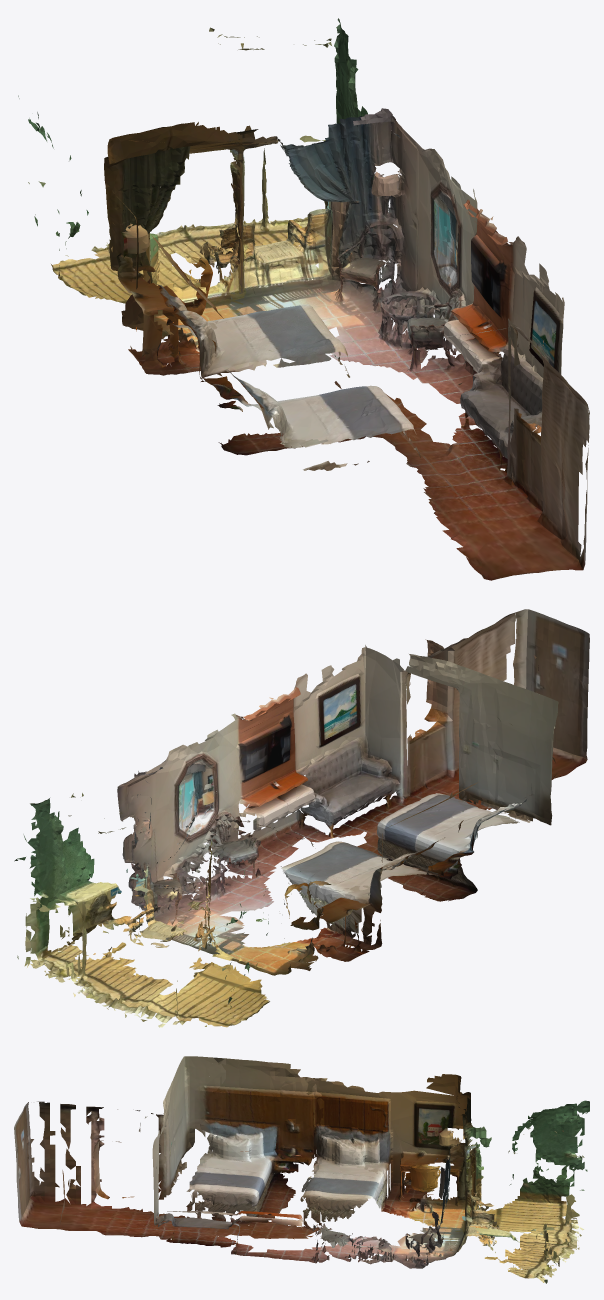
Rendered from site-visit.glb.
3 views of the same model, one above another, from view 1: azimuth 30°, elevation 25°; view 2: azimuth 150°, elevation 25°; view 3: azimuth 270°, elevation 25° (orthographic). The views are drawn at different scales.
Visible parts, largest first — view 1: node_2, node_1, node_0; view 2: node_2, node_0, node_1; view 3: node_2, node_1, node_0.
Part boxes in pixels (x1,y1,x2,y2): node_2: (187, 18, 564, 495); node_1: (18, 27, 272, 375); node_0: (253, 300, 589, 580); node_2: (14, 645, 521, 982); node_0: (412, 609, 589, 825); node_1: (65, 781, 455, 1027); node_2: (130, 1057, 559, 1283); node_1: (305, 1074, 589, 1266); node_0: (14, 1056, 225, 1236).
Bounding box in the file's own units: 5.09 × 2.75 × 11.13.
Materials: 3 (3 with a texture image).
